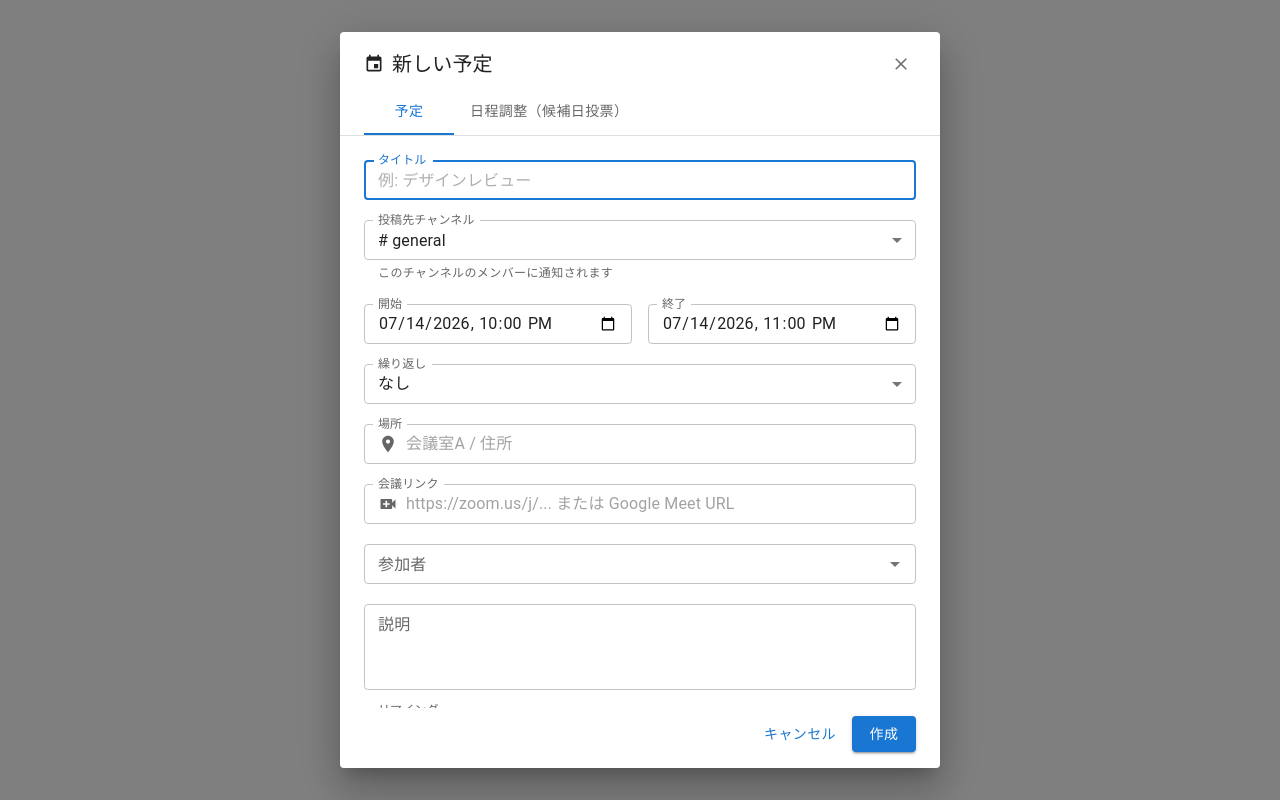
Scenario: EventDialog › 予定モードのバリデーション › タイトル空のまま送信するとエラーが出て api.calendar.events.create が呼ばれない
This screenshot has width=1280, height=800.
Click the button with aria-label "event-dialog-submit" at (884, 734), box [852,716,916,752]
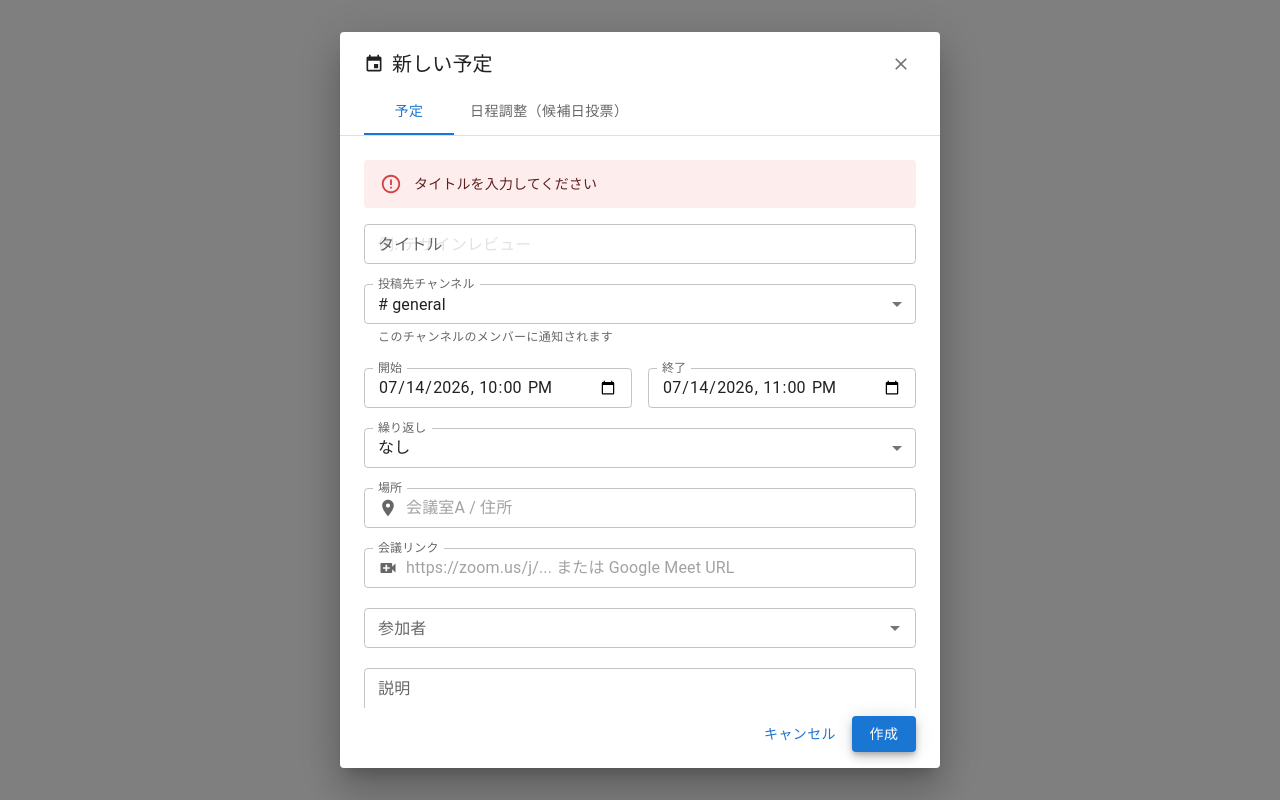
Now the message with test id "event-dialog-error" shows "タイトル", box [414,176,597,192]
